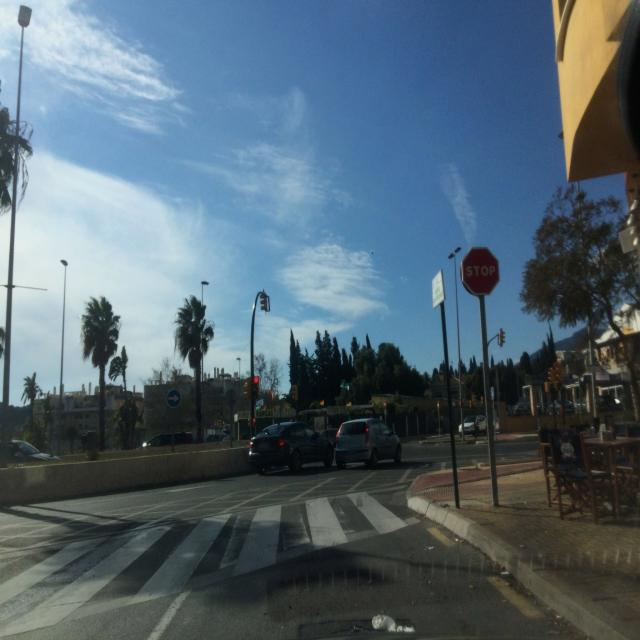car: (248, 422, 335, 474), (334, 417, 402, 468), (7, 439, 53, 464), (141, 432, 194, 448), (458, 415, 488, 434), (320, 427, 339, 448)
